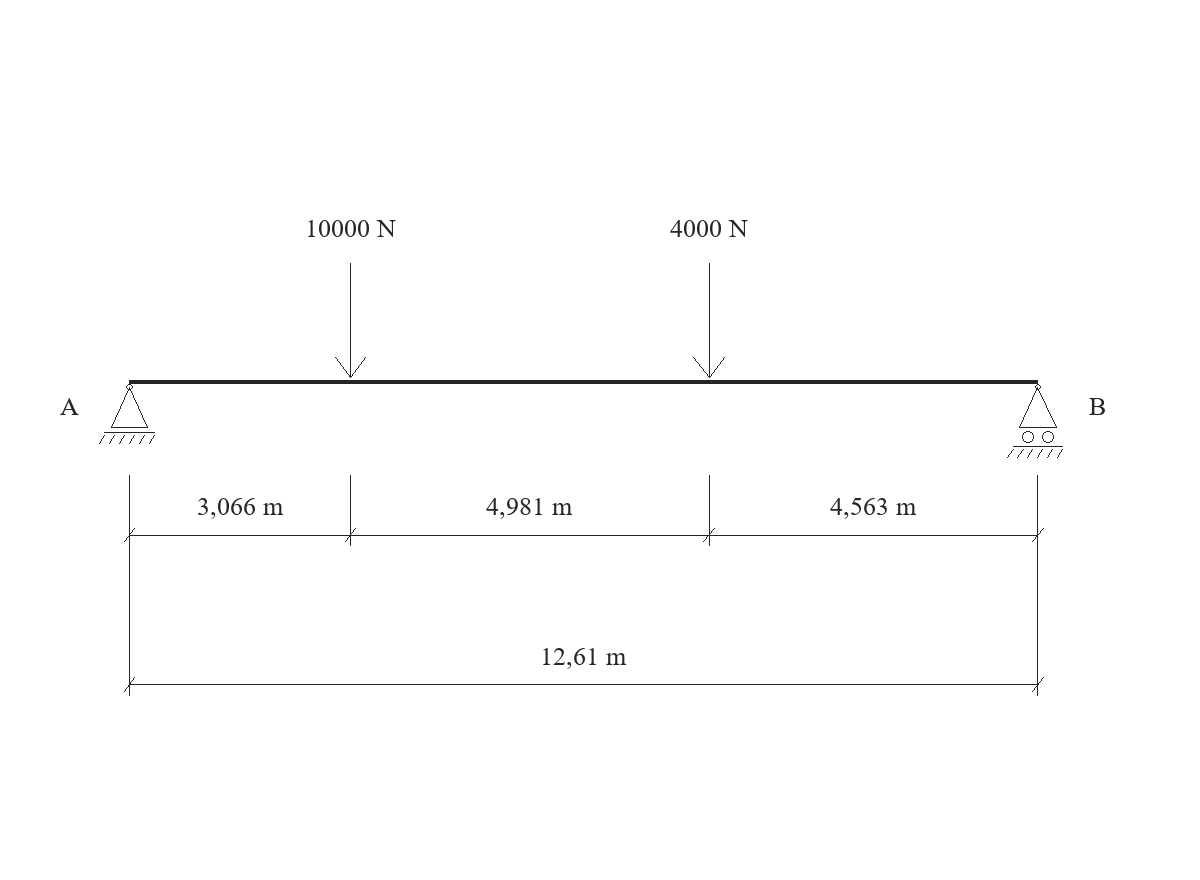pin_support: (99, 384, 155, 444)
point_load: (693, 263, 725, 378), (335, 263, 366, 378)
roller_support: (1007, 384, 1063, 458)
